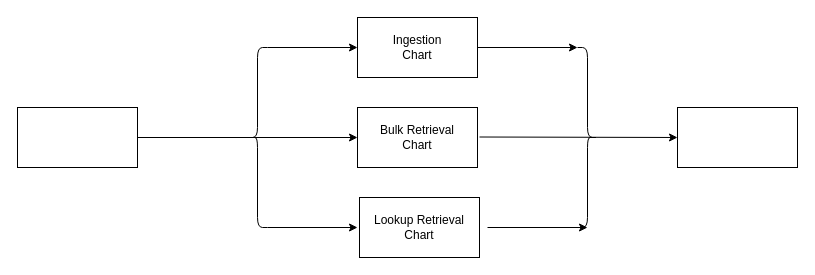
The diagram is 815 pixels wide and 275 high, and some of its shapes have lost their labels. Here are the shapes that lost their labels. From the top down, the centre of each, then its label:
point 77,137: Datahub / System Chart
point 737,137: Common Chart
